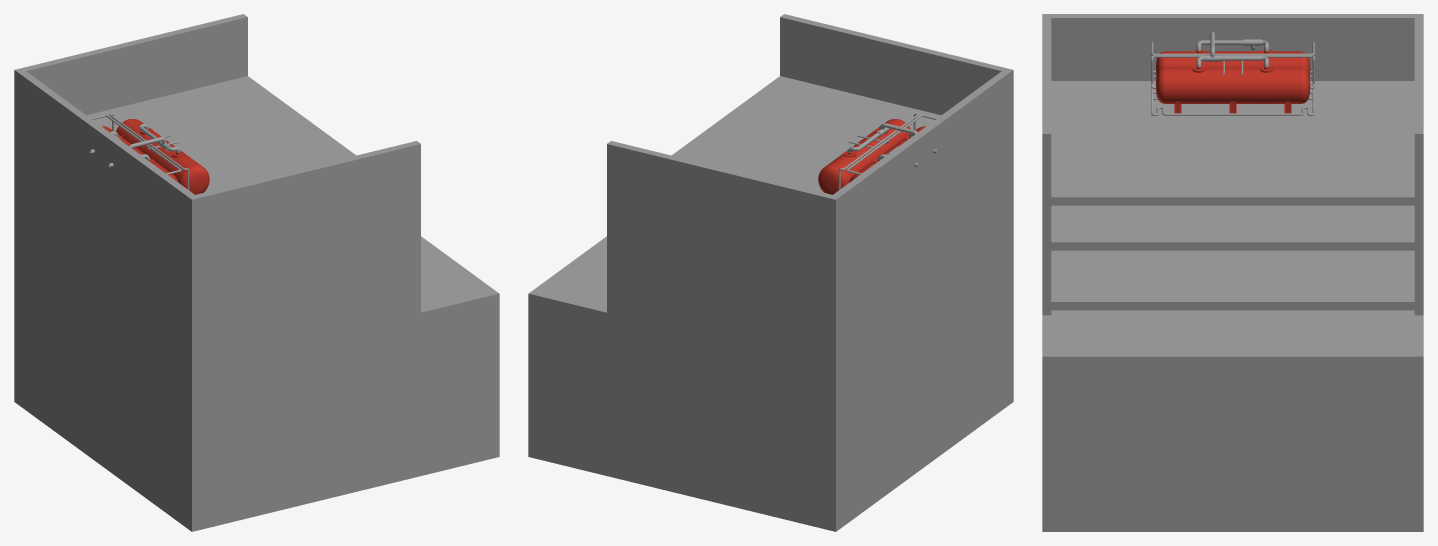
Rendered from NuclearBuilding.fbx.
3 renders of one model, left to right at view 1: azimuth 30°, elevation 25°; view 2: azimuth 150°, elevation 25°; view 3: azimuth 270°, elevation 25°, orthographic. The views are drawn at different scales.
Parts seen in each view (by area): view 1: BuldingWall, ForthFloor, EastBuldingWall, EastSecondFloor, Body5; view 2: BuldingWall, ForthFloor, EastBuldingWall, EastSecondFloor, Body5; view 3: BuldingWall, ForthFloor, EastBuldingWall, SecondFloor, ThirdFloor, EastSecondFloor, Body5, FirstFloor, Body45, Body15, Body53, Body10 (+2 smaller).
Boxes of the visible parts, bbox=[...] form: BuldingWall: bbox=[14, 14, 499, 531]; ForthFloor: bbox=[87, 76, 356, 192]; EastBuldingWall: bbox=[421, 236, 499, 365]; EastSecondFloor: bbox=[421, 243, 487, 308]; Body5: bbox=[116, 119, 209, 194]; BuldingWall: bbox=[528, 14, 1013, 531]; ForthFloor: bbox=[671, 76, 940, 192]; EastBuldingWall: bbox=[528, 236, 606, 365]; EastSecondFloor: bbox=[540, 243, 606, 308]; Body5: bbox=[818, 119, 910, 194]; BuldingWall: bbox=[1042, 14, 1423, 531]; ForthFloor: bbox=[1051, 81, 1414, 205]; EastBuldingWall: bbox=[1042, 315, 1423, 413]; SecondFloor: bbox=[1051, 250, 1414, 310]; ThirdFloor: bbox=[1051, 205, 1414, 250]; EastSecondFloor: bbox=[1051, 315, 1414, 352]; Body5: bbox=[1156, 65, 1310, 103]; FirstFloor: bbox=[1051, 310, 1414, 315]; Body45: bbox=[1156, 49, 1310, 76]; Body15: bbox=[1151, 94, 1314, 115]; Body53: bbox=[1151, 55, 1314, 89]; Body10: bbox=[1196, 32, 1268, 67].
Bounding box in the file's own units: 4201 × 4290 × 4156.
